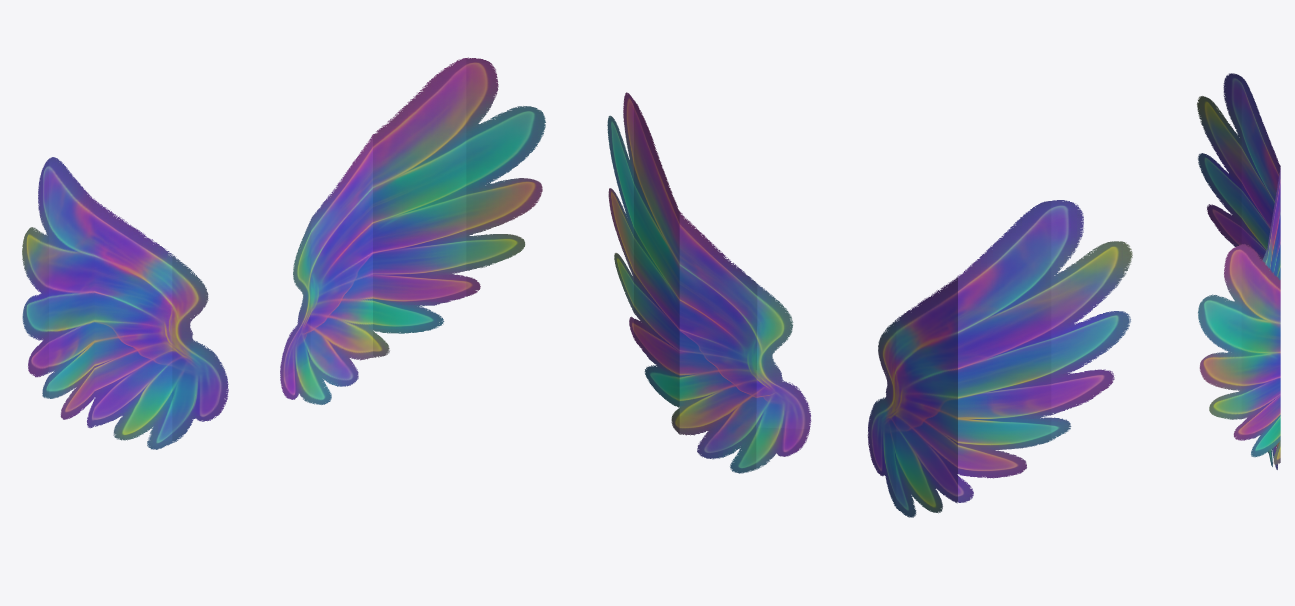
The model's file is canh15.fbx.
3 views of the same model, side by side, from view 1: azimuth 30°, elevation 25°; view 2: azimuth 150°, elevation 25°; view 3: azimuth 270°, elevation 25° (orthographic). The views are drawn at different scales.
Visible parts, largest first — view 1: canh15; view 2: canh15; view 3: canh15.
Part boxes in pixels (left/top/right/bottom): canh15: left=22, top=57, right=545, bottom=449; canh15: left=607, top=92, right=1132, bottom=517; canh15: left=1197, top=73, right=1280, bottom=469.
Bounding box in the file's own units: 1.77 × 1.32 × 0.3233.
